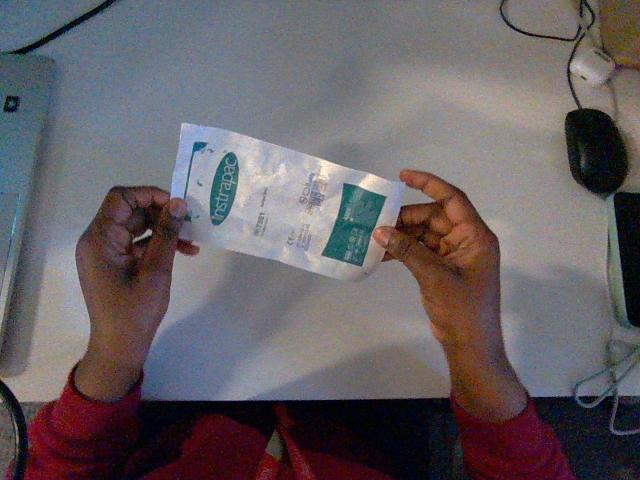gallipot: (171, 124, 404, 280)
